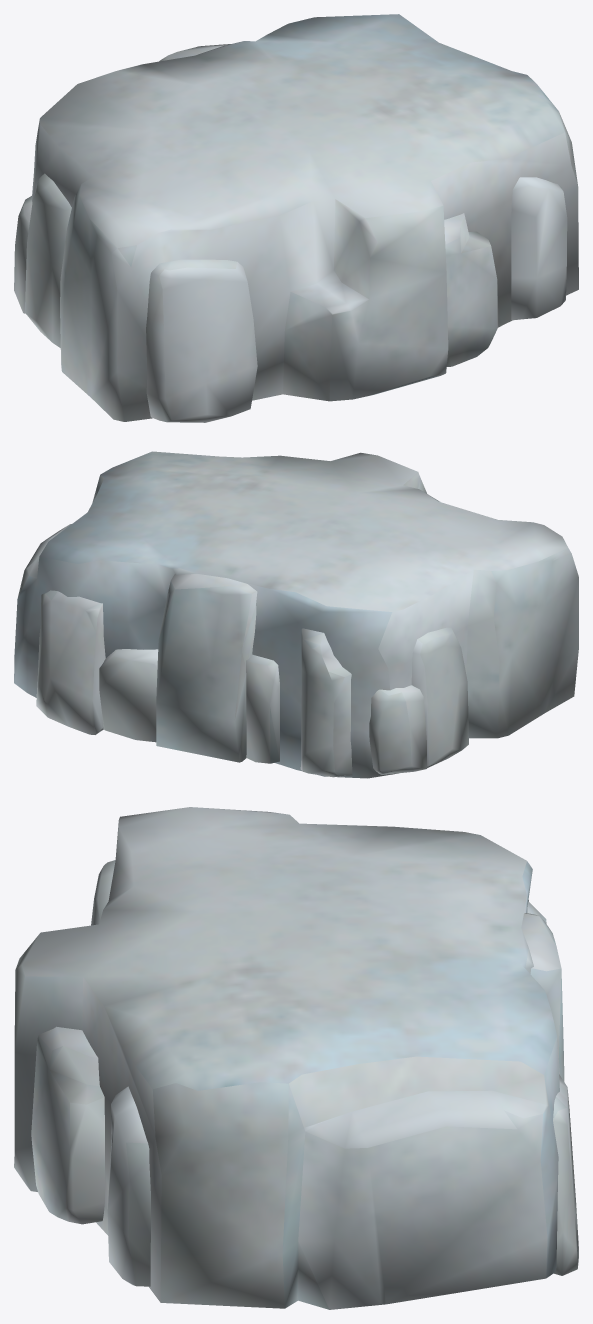
The model's file is P_RockSpire_Shelf06.obj.
The picture shows the model from 3 angles, top to bottom: view 1: azimuth 30°, elevation 25°; view 2: azimuth 150°, elevation 25°; view 3: azimuth 270°, elevation 25°; orthographic projection. The views are drawn at different scales.
Bounding box in the file's own units: 66.29 × 27.8 × 52.93.
